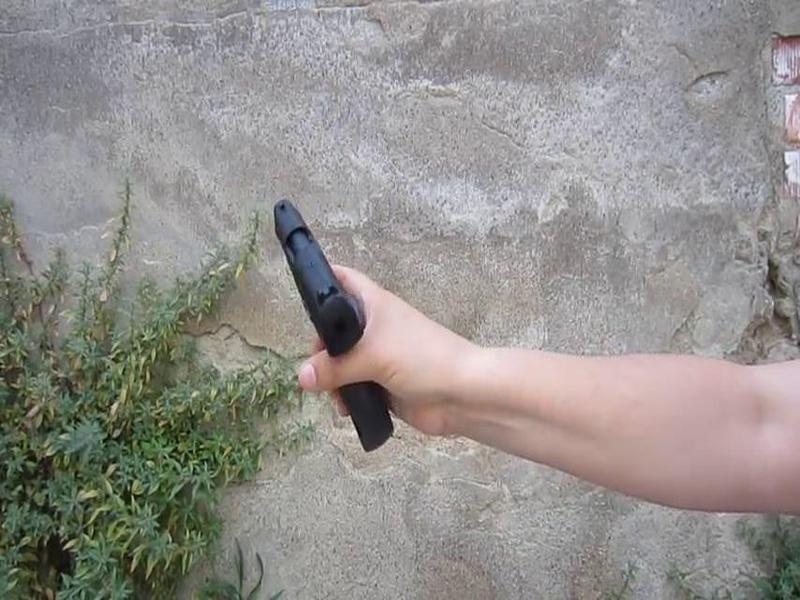Pistola: (263, 193, 419, 474)
